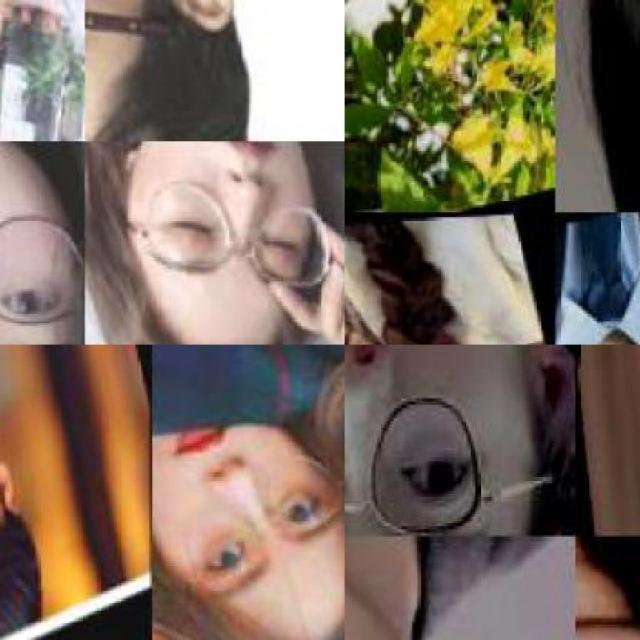mask: (344, 395, 558, 537), (121, 184, 344, 290), (155, 454, 340, 580), (0, 209, 86, 343)
